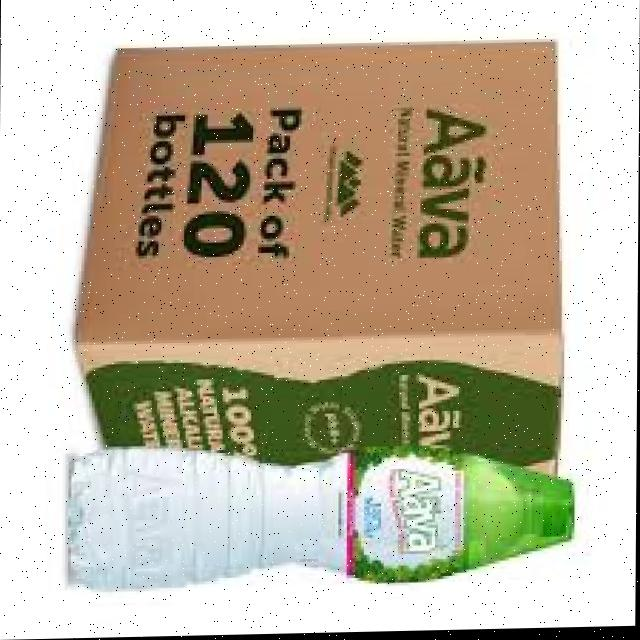bottle: (25, 442, 595, 627)
